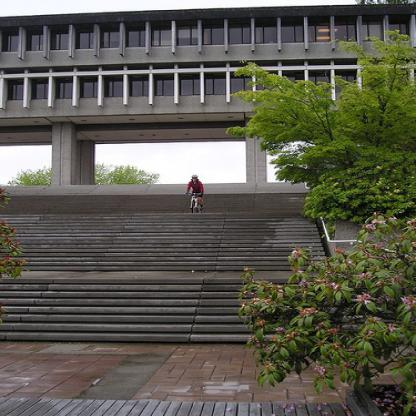stairs: (38, 280, 225, 351)
